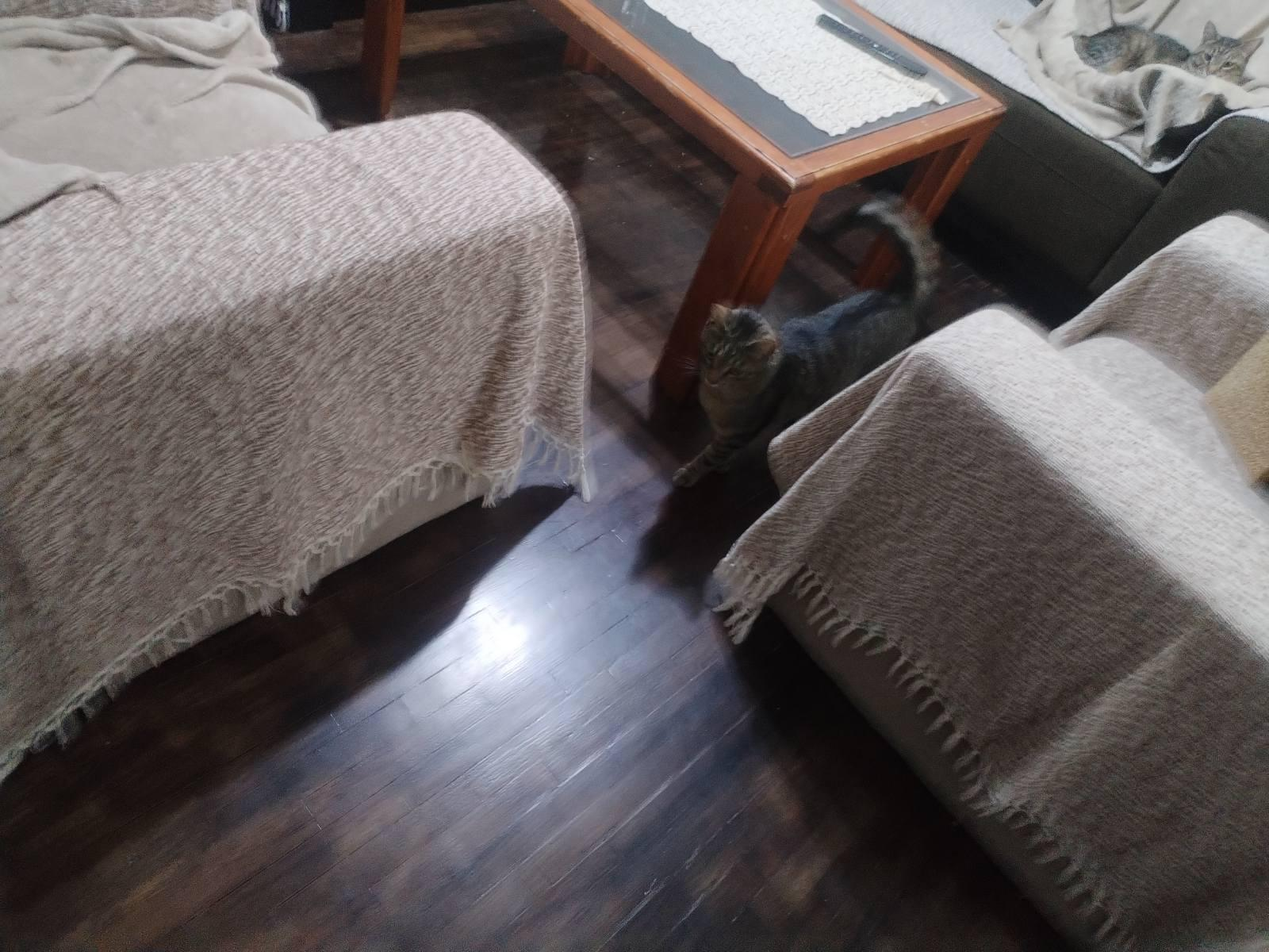macka: (666, 190, 946, 504)
